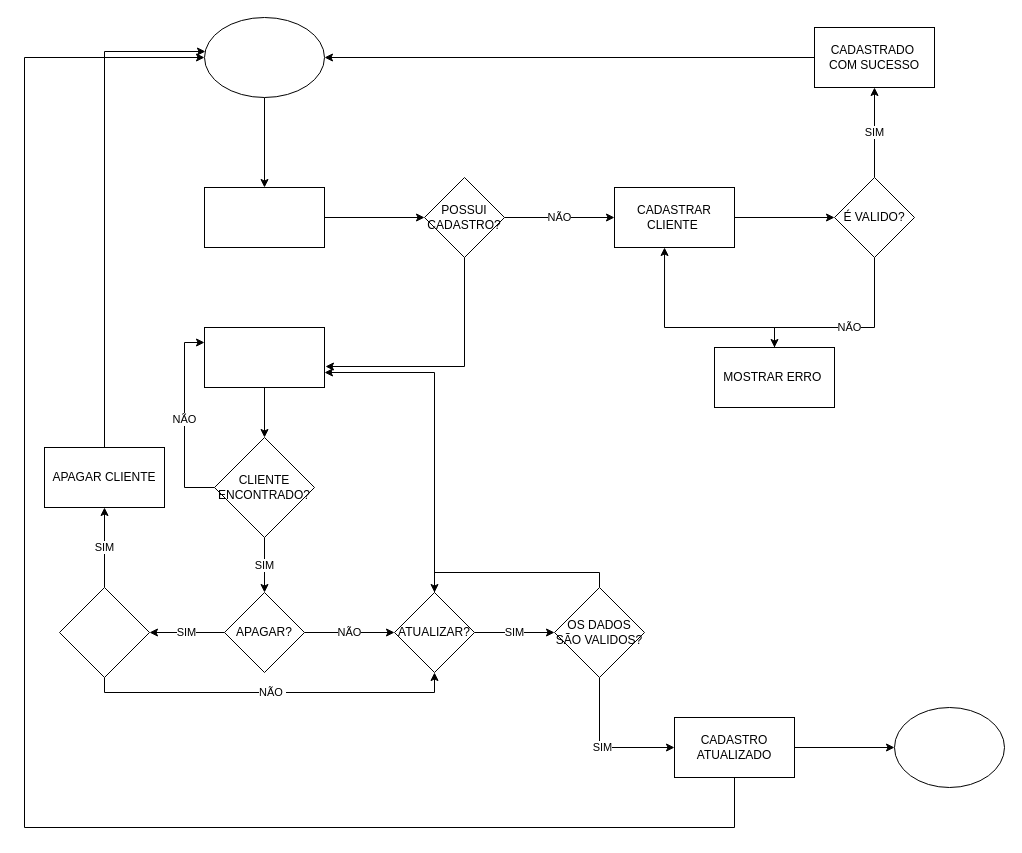
The diagram is 1022 pixels wide and 853 high, and some of its shapes have lost their labels. Here are the shapes that lost their labels. From the top down, the centre of each, then its label:
At (x=264, y=57): "INICIO".
At (x=264, y=217): "LISTAR CLIENTE".
At (x=264, y=357): "BUSCAR CLIENTE".
At (x=104, y=632): "DESEJA APAGAR ISSO ?".
At (x=949, y=747): "FIM".
